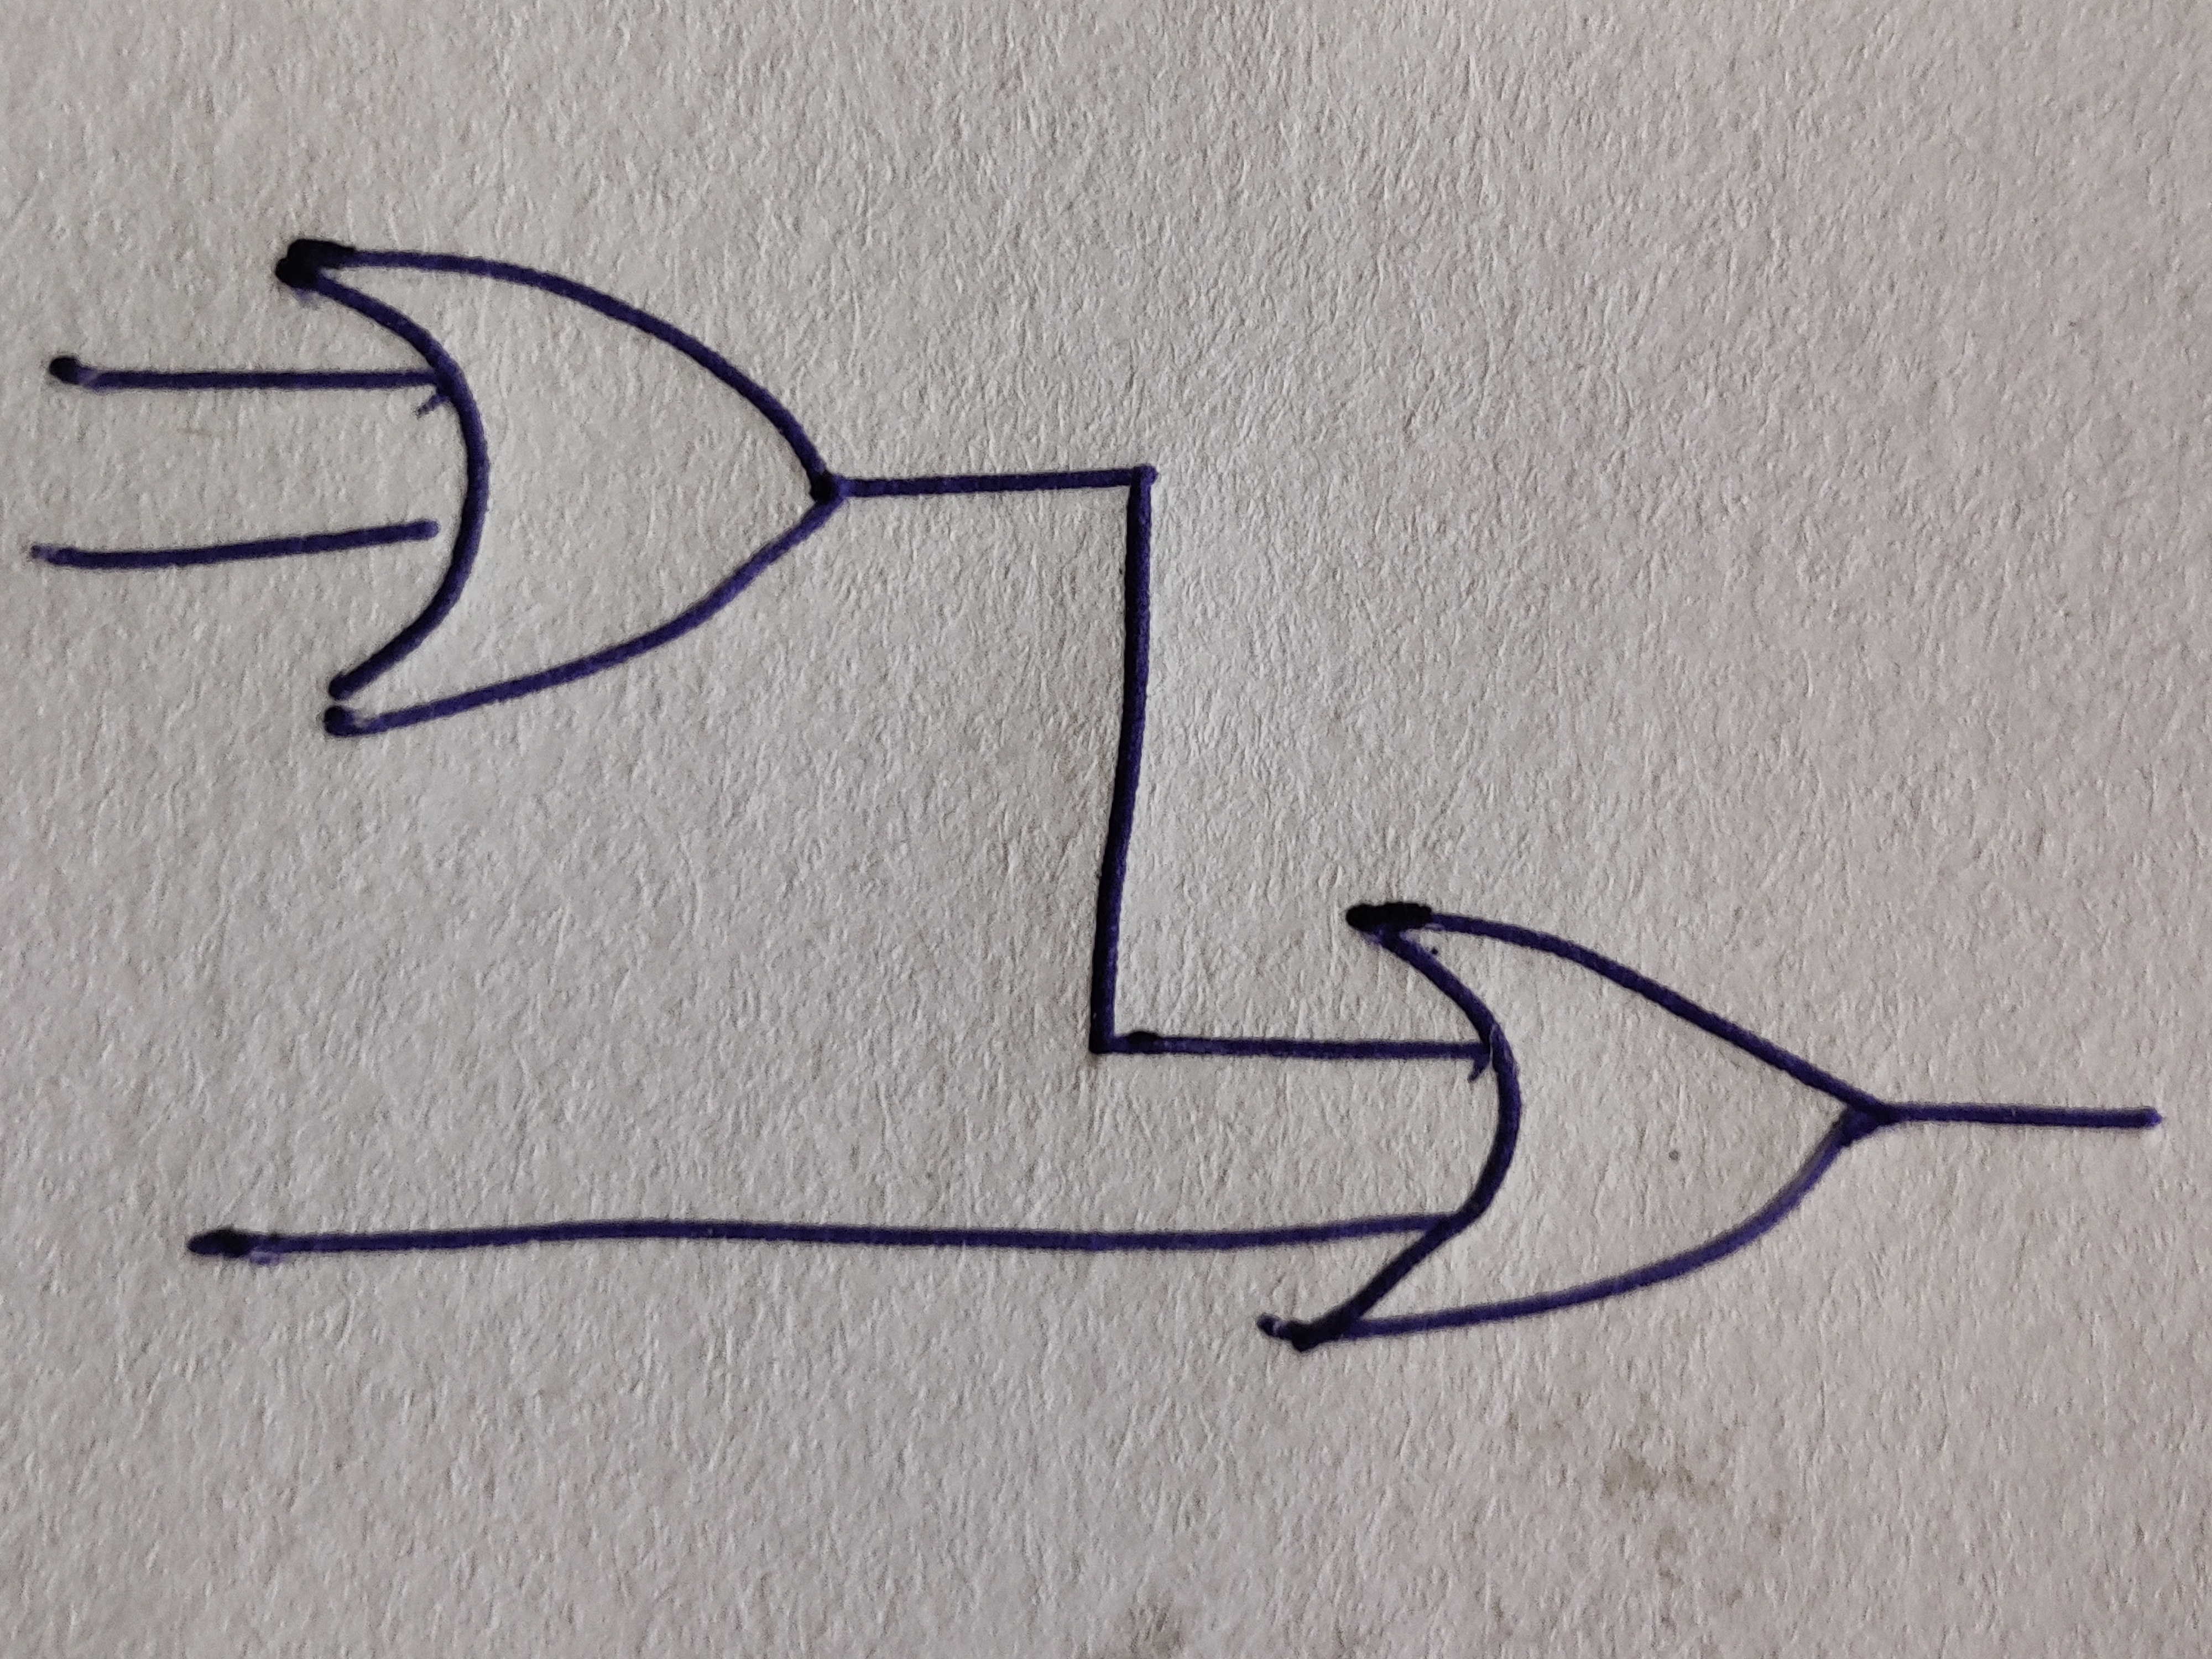or: (1263, 901, 1883, 1354), (273, 240, 834, 737)
